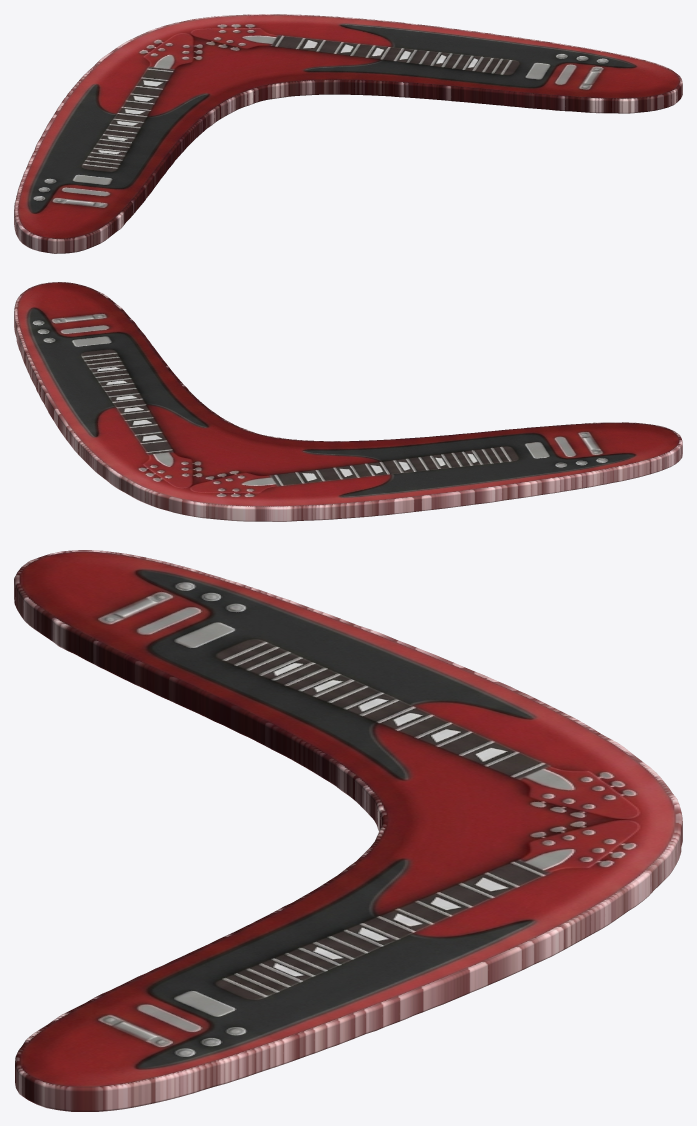
Rendered from Boomerang_30.fbx.
3 views of the same model, one above another, from view 1: azimuth 30°, elevation 25°; view 2: azimuth 150°, elevation 25°; view 3: azimuth 270°, elevation 25° (orthographic). The views are drawn at different scales.
Parts seen in each view (by area): view 1: Boomerang_30; view 2: Boomerang_30; view 3: Boomerang_30.
Part boxes in pixels (box(x1,y1,x2,y2)): Boomerang_30: box(14, 14, 682, 253); Boomerang_30: box(14, 282, 682, 521); Boomerang_30: box(14, 550, 682, 1111).
Size of the model in its own units: 201 by 4.2 by 105.
1 material, 1 textured.
